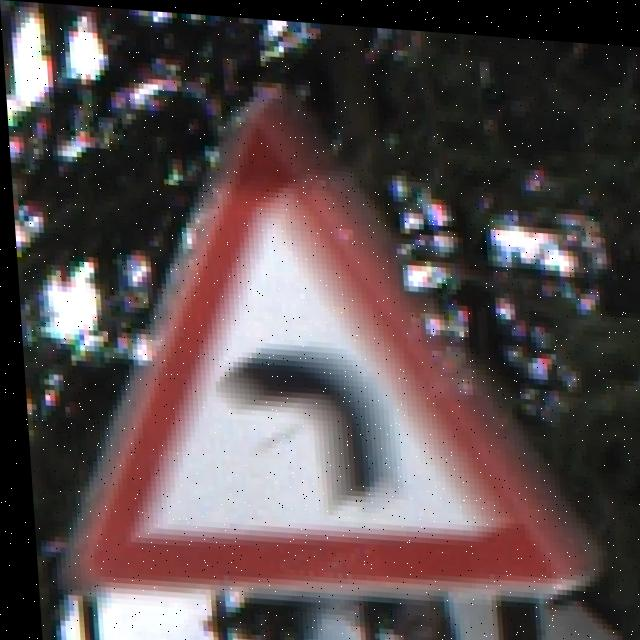left_turn: (78, 204, 555, 599)
